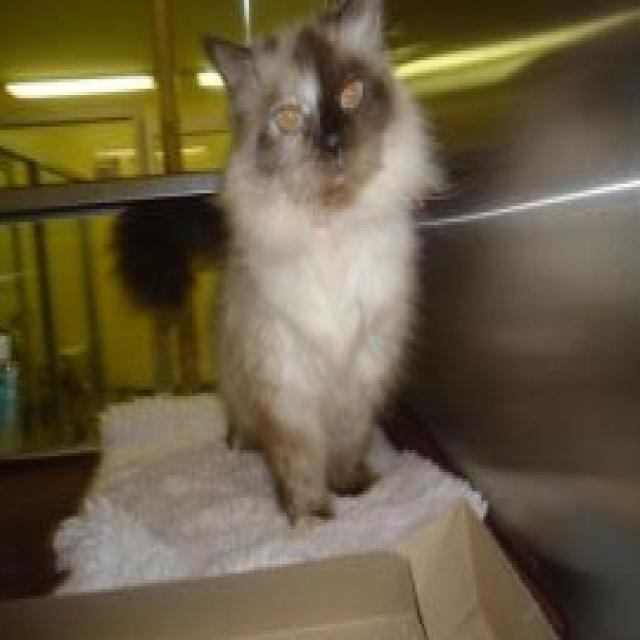Birman: (106, 0, 455, 535)
